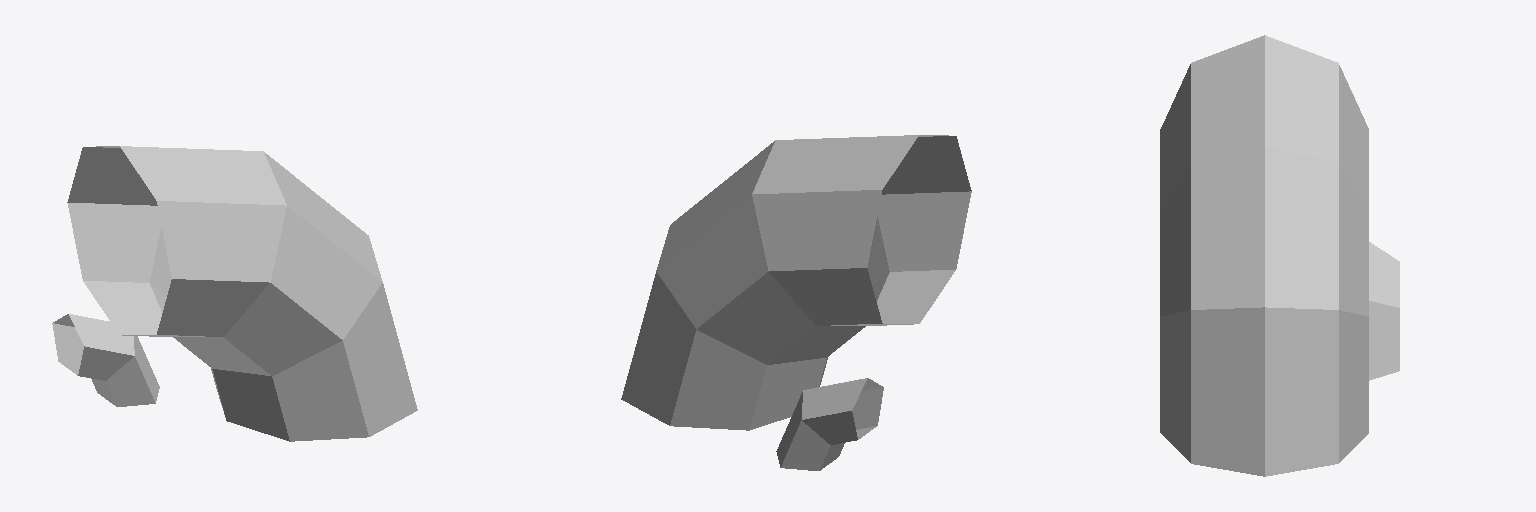
File: Pipes_Connector_3.obj
3 renders of one model, left to right at view 1: azimuth 30°, elevation 25°; view 2: azimuth 150°, elevation 25°; view 3: azimuth 270°, elevation 25°, orthographic.
Visible parts, largest first — view 1: Pipes_vertical_turn; view 2: Pipes_vertical_turn; view 3: Pipes_vertical_turn.
Part boxes in pixels (x1,y1,x2,y2): Pipes_vertical_turn: (52,146,417,441); Pipes_vertical_turn: (621,135,971,470); Pipes_vertical_turn: (1160,35,1399,476).
Bounding box in the file's own units: 1.1 × 1.1 × 0.794.